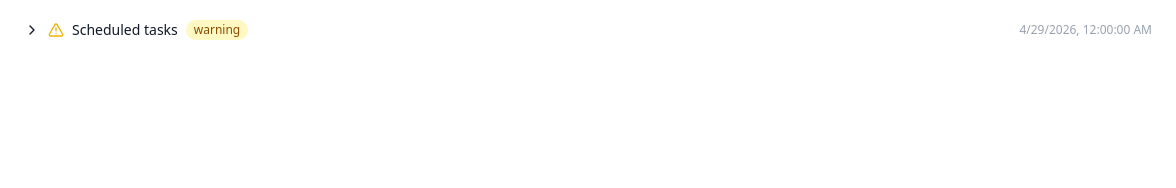
Test: HealthChecksTab › scheduled_tasks separates suspicious from routine tasks
This screenshot has width=1176, height=188.
Expected: the text "Scheduled tasks" is shown, [72,20,178,40]
Click the button "Scheduled tasks warning 4/29/2026, 12:00:00 AM" at (125, 30), box [12,12,1164,48]
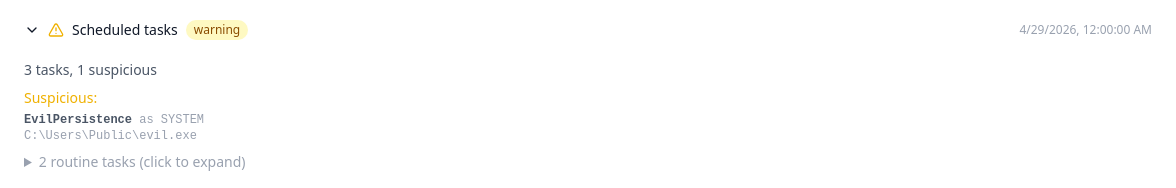
Result: the text "EvilPersistence" is shown at [24,113,132,127]
Result: the text "C:\\Users\\Public\\evil.exe" is shown at [24,129,197,143]
Result: the heading "2 routine tasks (click to expand)" is shown at [39,152,246,171]
